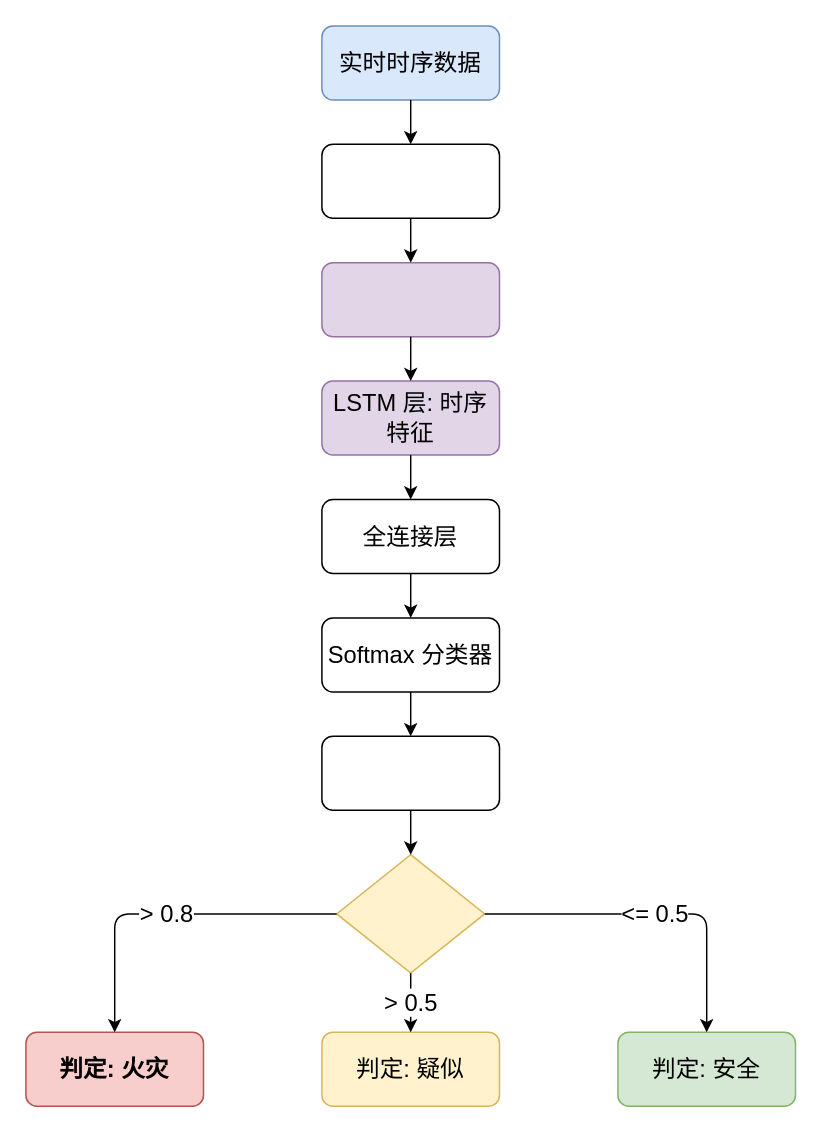
Image size: 821x1132. Some labels were removed from this diagram. Here are the shapes that lost their labels. From the top down, the centre of each, then its label:
the point at 410,180: 特征工程
the point at 410,299: CNN 层: 空间特征
the point at 410,772: 输出概率
the point at 410,913: 阈值判定
